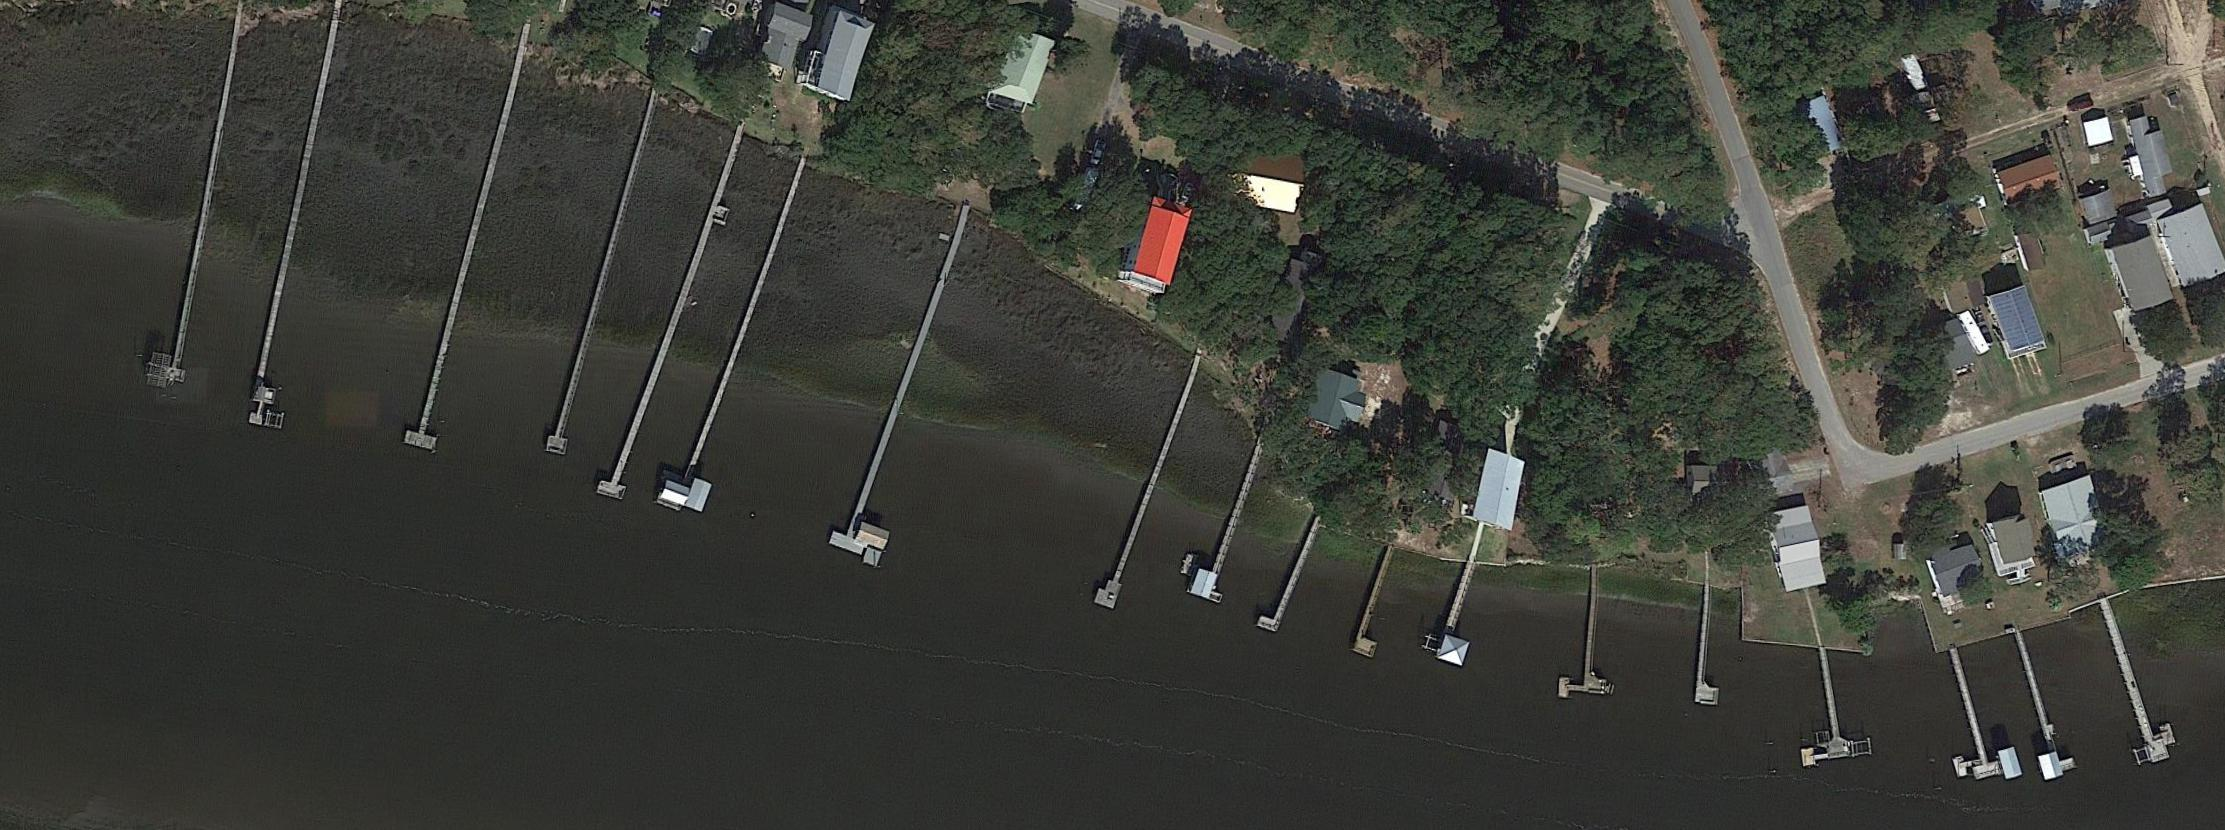harbor: (651, 177, 820, 525), (824, 231, 998, 569), (597, 159, 746, 507), (403, 79, 531, 453), (244, 33, 353, 430), (541, 122, 660, 460), (143, 62, 236, 393), (1093, 370, 1200, 612), (1191, 441, 1279, 604), (1928, 650, 2024, 793), (2102, 604, 2181, 765), (2006, 638, 2079, 782), (1784, 643, 1853, 768), (1256, 514, 1323, 636), (1558, 575, 1618, 702), (1435, 560, 1497, 670), (1349, 550, 1408, 660), (1694, 594, 1730, 707)
